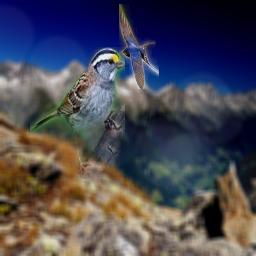Sparrow: (30, 47, 125, 177)
Swallow: (119, 4, 159, 89)
